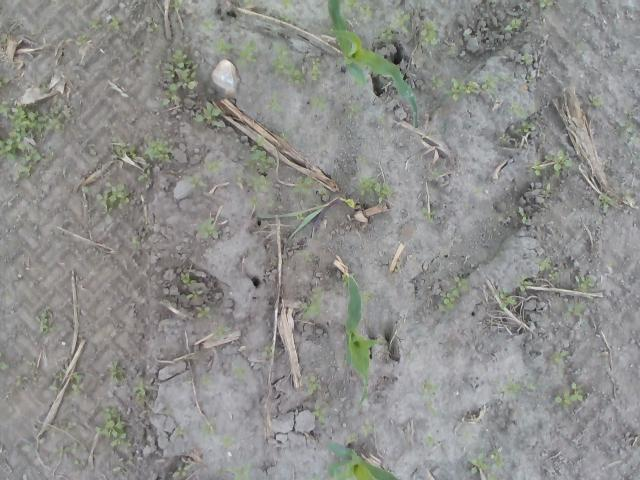Maize: (324, 0, 418, 128), (255, 196, 338, 250), (342, 272, 374, 408), (322, 439, 402, 480)
Weeds: (0, 95, 77, 182), (110, 135, 176, 183), (378, 8, 442, 49), (430, 72, 513, 102), (160, 48, 200, 107), (244, 136, 274, 194), (270, 39, 306, 85), (350, 173, 400, 204), (462, 447, 506, 480), (94, 406, 130, 446), (436, 274, 470, 314), (214, 36, 256, 68), (96, 182, 134, 217), (526, 150, 572, 177), (34, 303, 64, 337), (553, 382, 587, 408), (191, 104, 226, 129), (510, 102, 534, 136), (196, 216, 223, 240), (304, 287, 324, 319), (217, 463, 251, 480), (538, 254, 560, 280), (617, 119, 638, 145), (286, 174, 316, 192), (345, 0, 374, 18), (416, 375, 441, 395), (109, 359, 129, 384), (498, 286, 518, 310), (503, 374, 521, 400), (310, 400, 328, 426), (574, 272, 595, 293), (48, 368, 66, 390), (264, 95, 286, 113), (303, 374, 319, 398), (131, 376, 147, 400), (309, 94, 328, 113), (566, 302, 586, 320), (503, 16, 524, 33), (51, 446, 80, 458), (510, 206, 529, 224), (190, 174, 209, 192), (142, 15, 162, 32), (192, 304, 212, 320), (597, 192, 615, 209), (359, 420, 376, 438), (518, 273, 534, 292), (205, 159, 224, 175), (68, 373, 81, 396), (62, 33, 89, 44), (424, 400, 442, 416), (310, 57, 322, 81), (550, 351, 570, 365), (423, 206, 438, 224), (0, 74, 18, 89), (232, 365, 246, 384), (199, 16, 215, 32), (87, 17, 104, 32), (60, 420, 80, 432), (179, 271, 193, 288), (174, 463, 192, 476), (302, 248, 315, 266), (340, 196, 356, 210), (367, 111, 384, 124), (587, 94, 604, 107), (199, 421, 217, 433), (240, 0, 256, 13), (110, 15, 122, 32), (519, 48, 530, 66), (360, 290, 375, 302), (126, 47, 144, 57), (208, 325, 224, 336), (350, 103, 369, 112), (288, 211, 305, 221), (356, 154, 370, 166), (497, 132, 511, 144), (222, 434, 234, 448), (246, 194, 260, 206), (280, 127, 292, 141), (127, 239, 142, 250), (541, 182, 551, 198), (230, 172, 243, 184), (274, 15, 296, 22), (423, 432, 432, 449), (346, 431, 358, 443), (262, 344, 274, 356), (280, 0, 294, 10), (0, 362, 17, 370), (538, 0, 554, 8), (168, 0, 184, 8), (383, 214, 393, 226), (430, 166, 442, 176), (200, 373, 210, 385), (15, 374, 25, 386), (342, 274, 350, 288), (174, 426, 185, 436), (40, 82, 50, 93), (526, 381, 536, 391), (574, 40, 586, 48), (526, 73, 534, 84), (184, 375, 193, 384), (487, 0, 497, 8), (318, 190, 329, 196), (346, 256, 354, 264), (0, 34, 7, 43), (191, 290, 198, 298), (72, 459, 80, 464)
